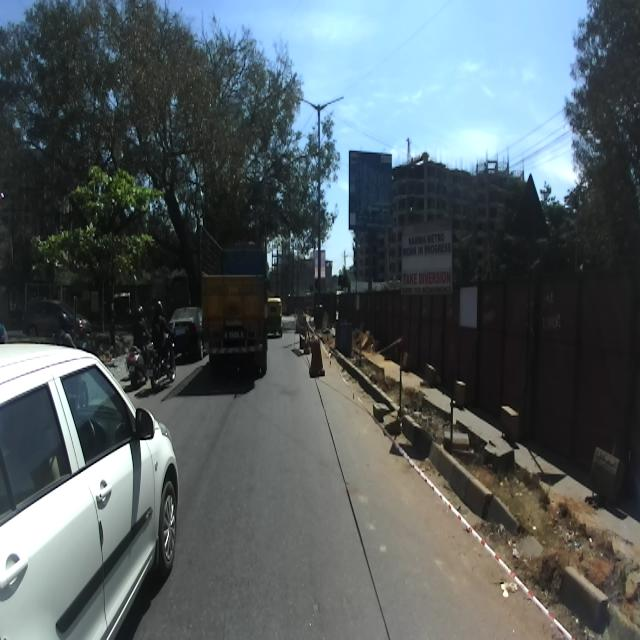barrier ahead at: (302, 329, 329, 389)
car ahead at: (0, 341, 182, 639)
truck ahead at: (195, 228, 272, 383)
